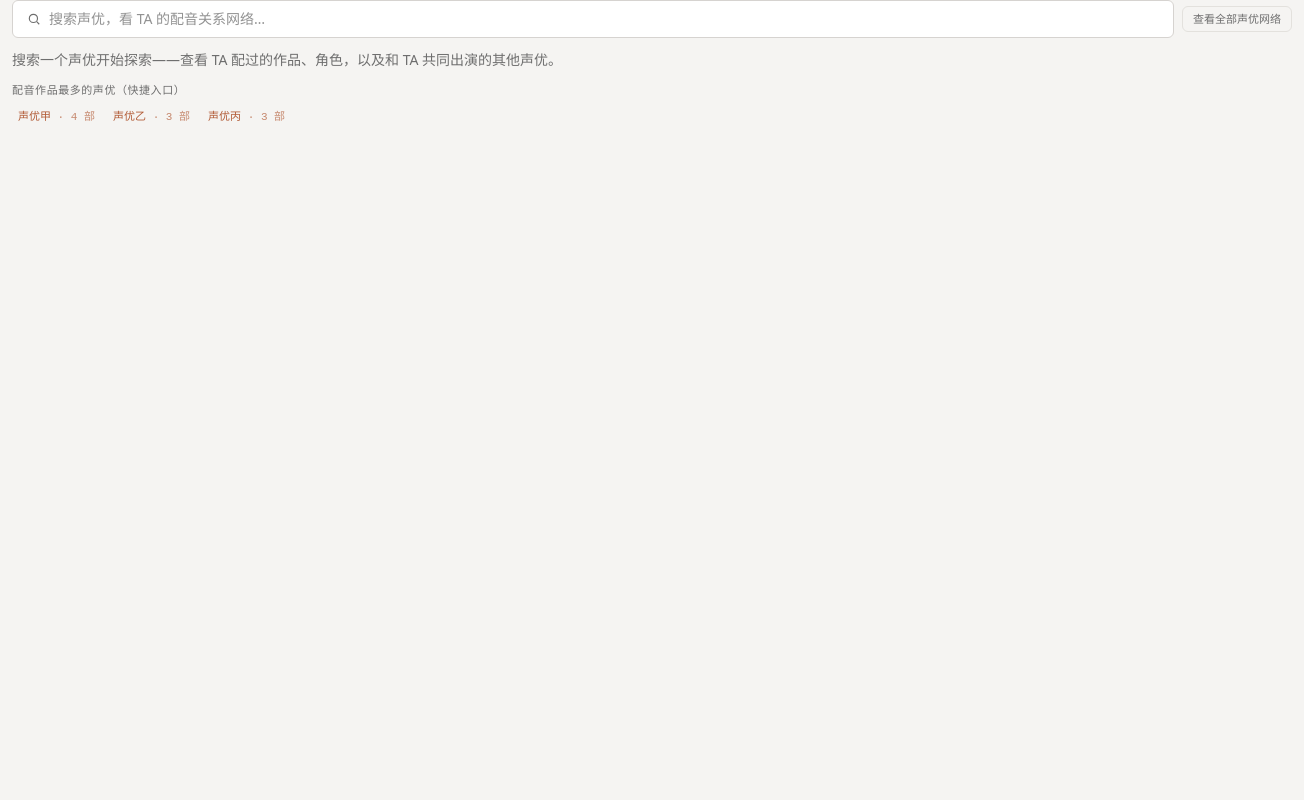
声优图谱（ADR 0036 邻域视图） › Phase 8-2-A：Voice Graph 节点可访问性 › 可交互节点具备键盘语义：role=button + tabindex=0 + 非空 aria-label（作品与声优）
Click the button "声优甲 · 4 部" at (56, 117), box [12, 106, 101, 127]
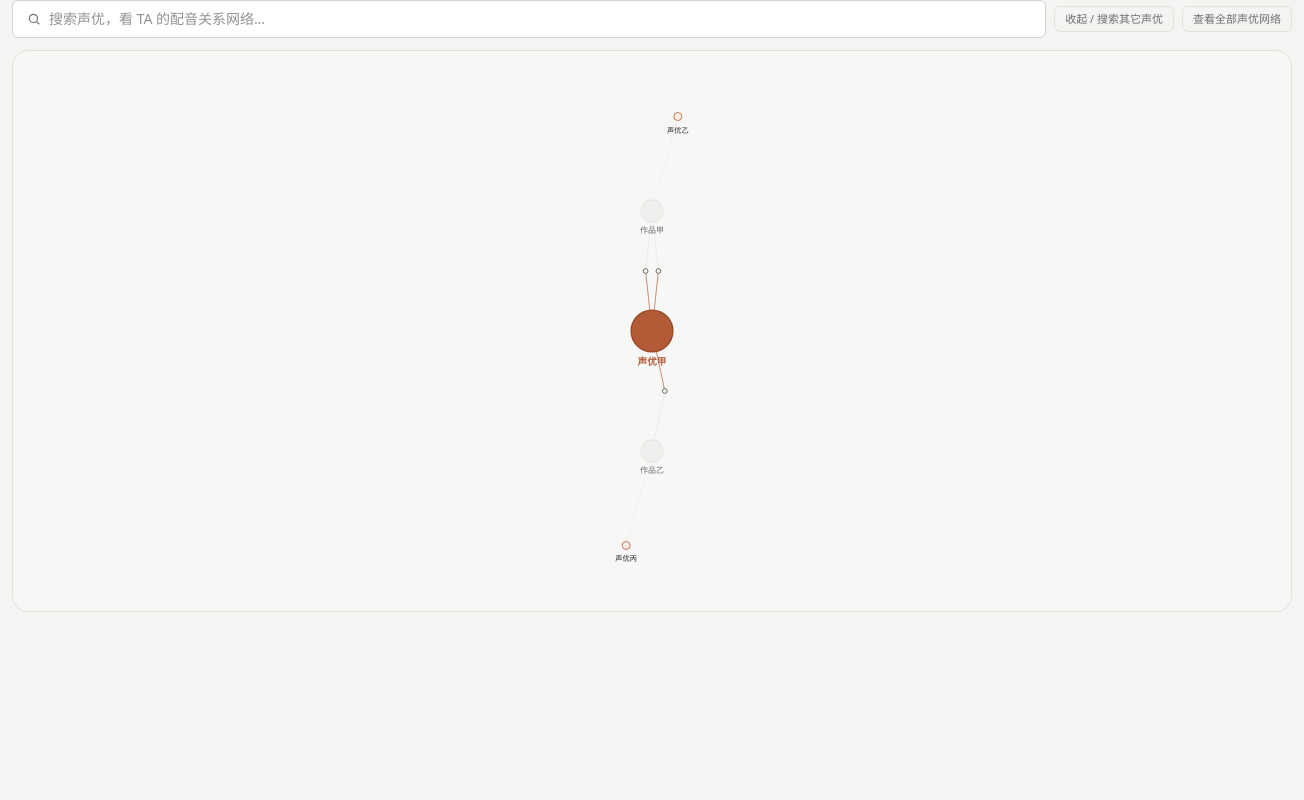
expect the number of pictures named "声优邻域关系图" is 1: met
